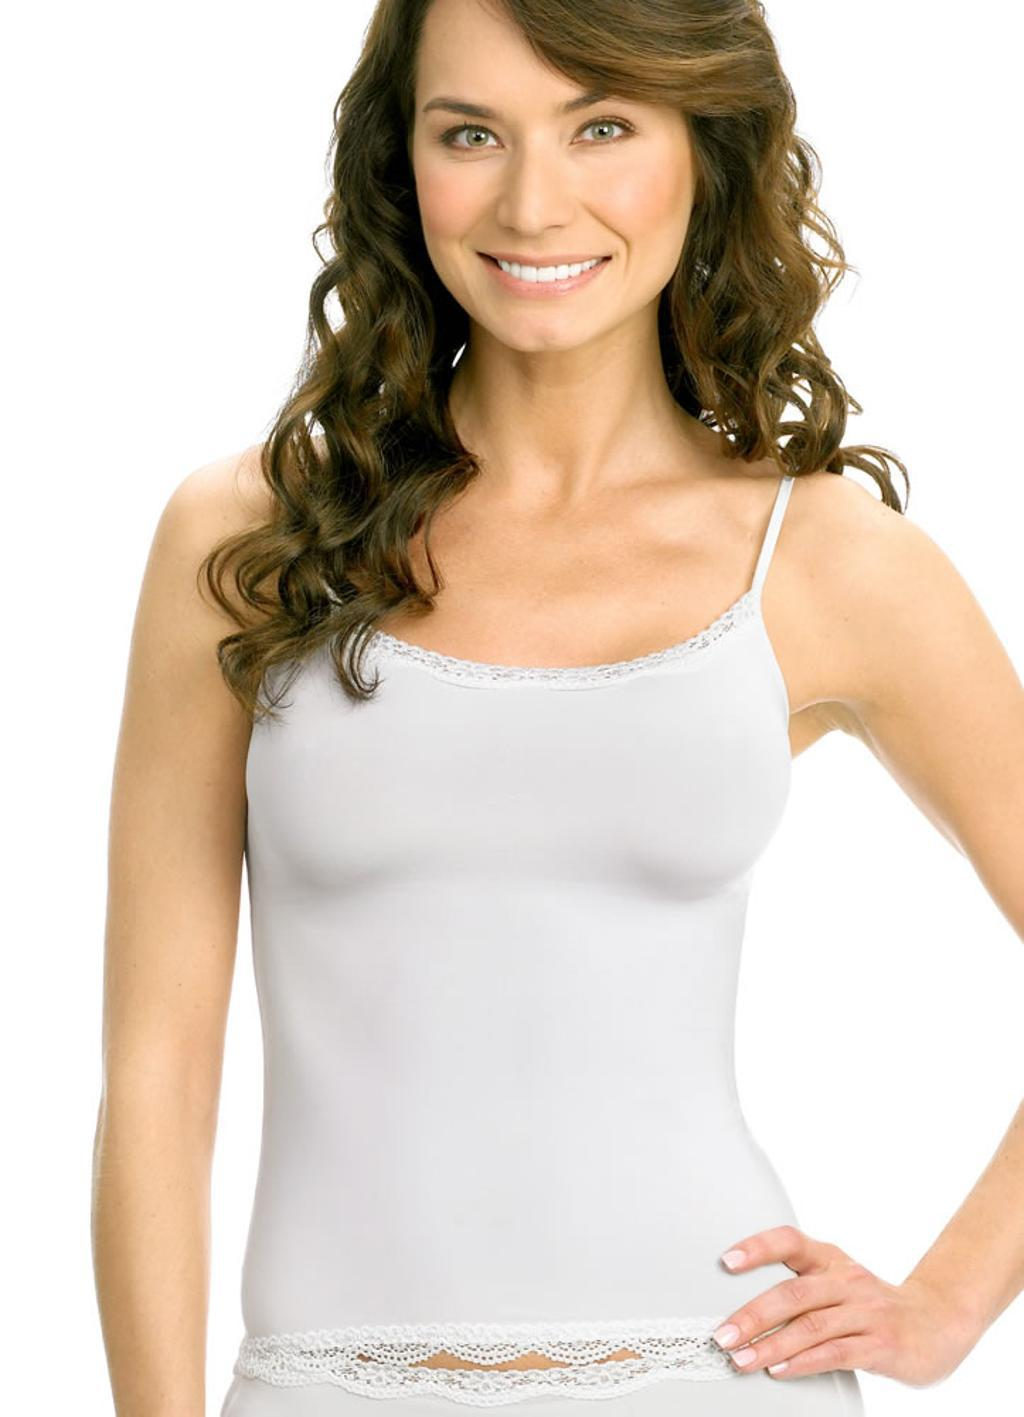face: (411, 9, 677, 330)
